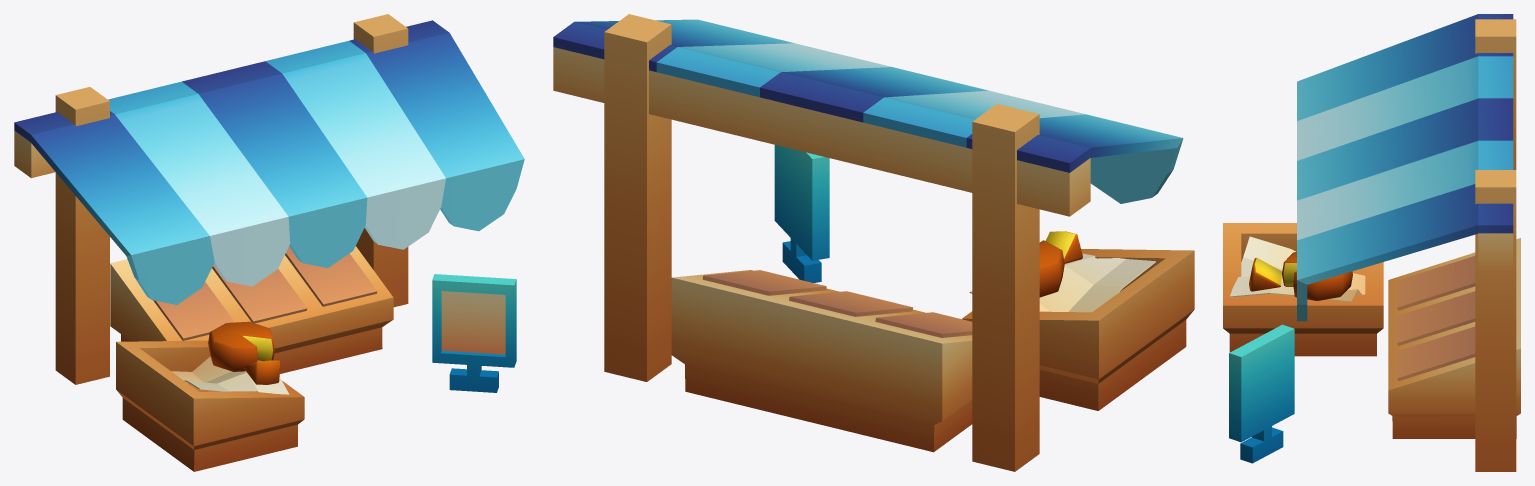
Rendered from SM_Market.fbx.
The picture shows the model from 3 angles, left to right: view 1: azimuth 30°, elevation 25°; view 2: azimuth 150°, elevation 25°; view 3: azimuth 270°, elevation 25°; orthographic projection. The views are drawn at different scales.
Parts seen in each view (by area): view 1: SM_Market; view 2: SM_Market; view 3: SM_Market.
Part boxes in pixels (x1,y1,x2,y2): SM_Market: (14,14,524,471); SM_Market: (553,14,1194,471); SM_Market: (1223,14,1520,471).
Bounding box in the file's own units: 10.1 × 6.35 × 6.02.
